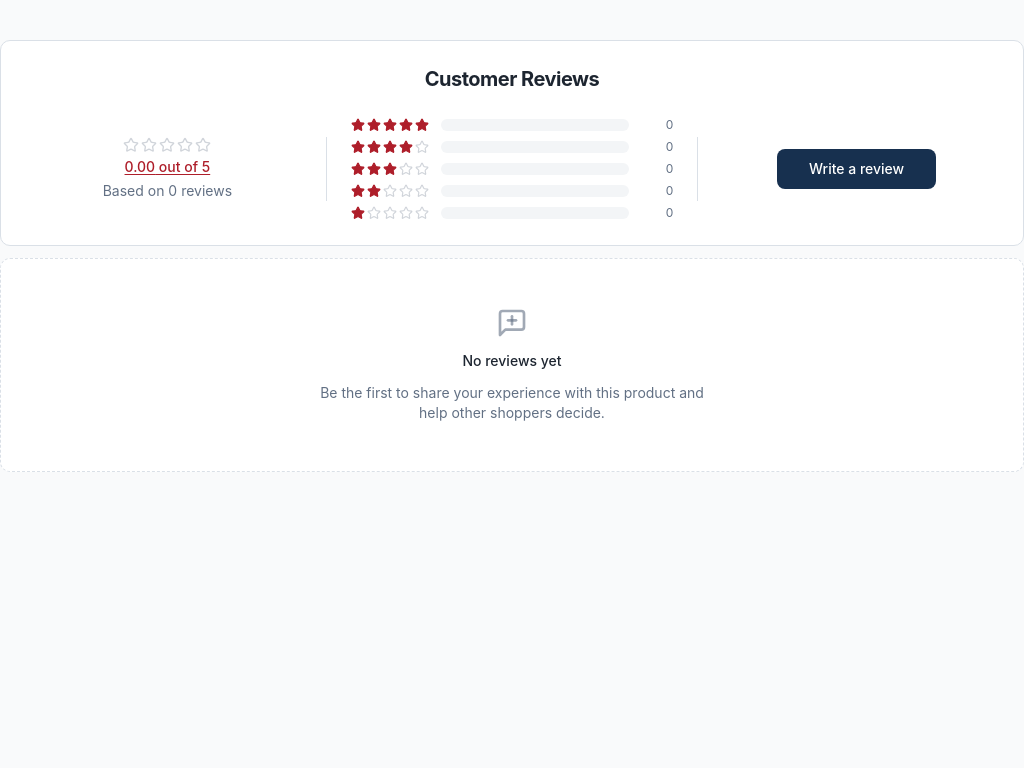
Test: Write a review modal accessibility › traps keyboard focus inside the dialog
The width and height of the screenshot is (1024, 768).
Later steps or results of the test are not shown.
Click the button "Write a review". click: (857, 169)
box: [777,149,936,189]
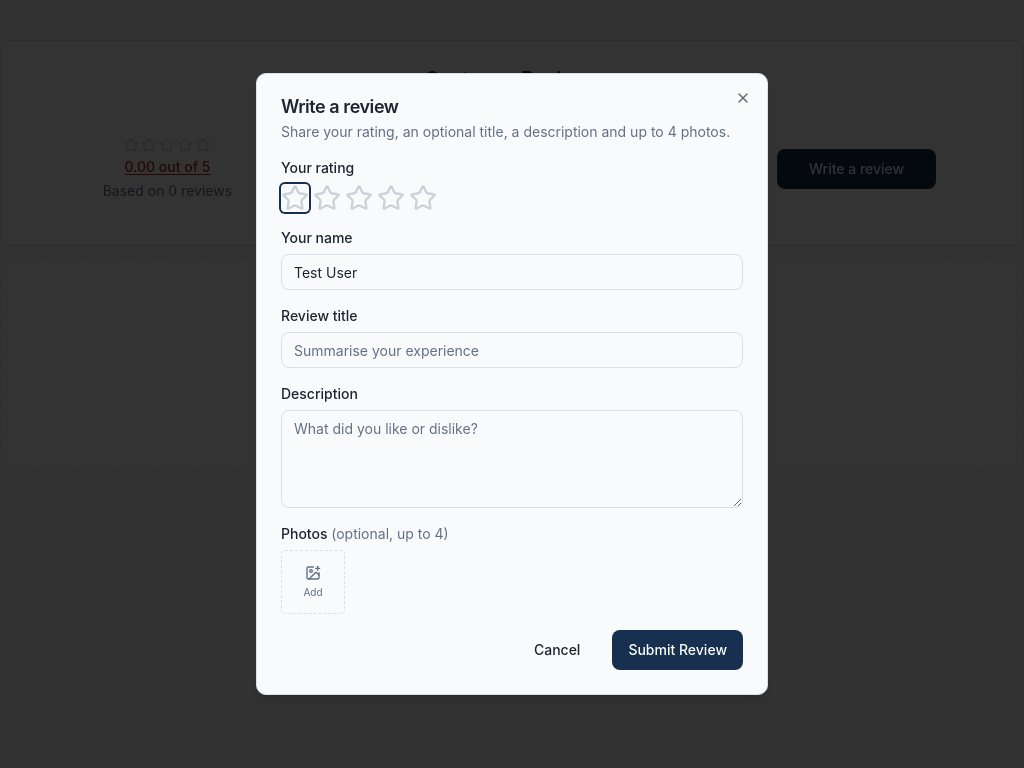
Check: the dialog is shown, box [256,73,768,695]
